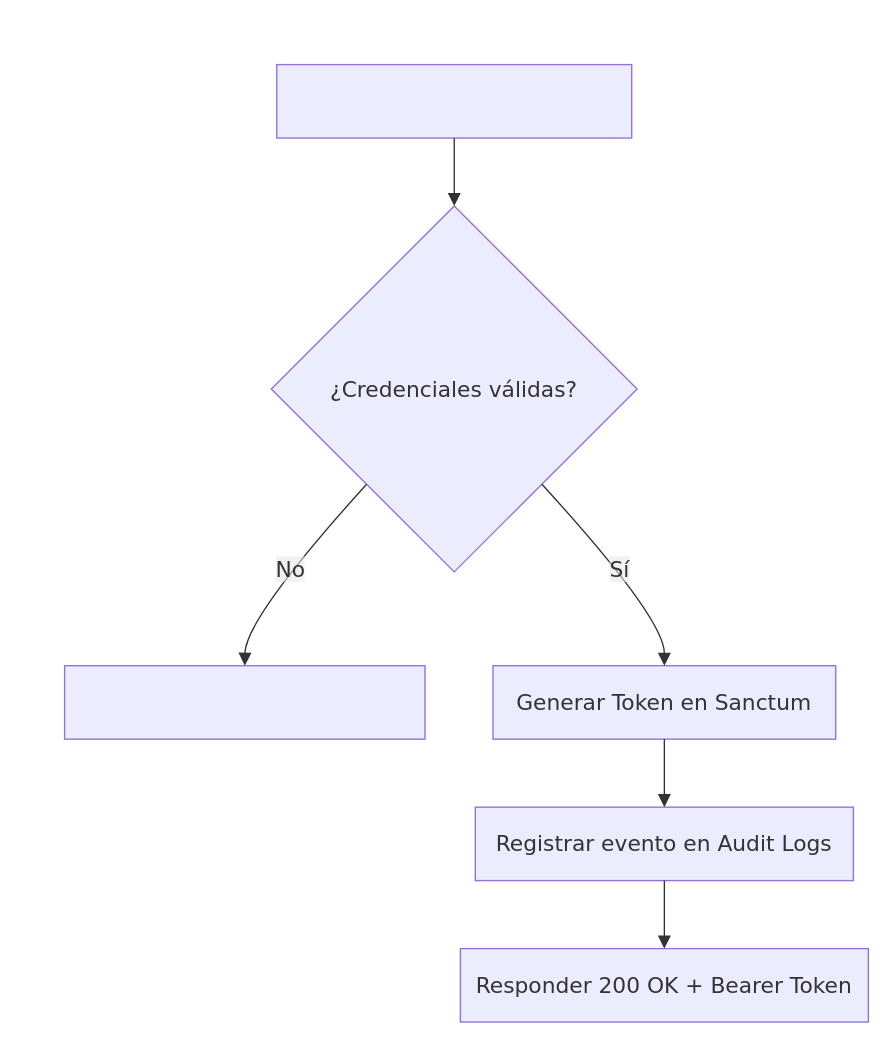
This 892x1046 diagram has some shape labels left out. The box of each missing label's shape, as (x1, y1, x2, y2) in pixels:
Cliente: POST /api/v1/login: (275, 63, 632, 138)
Responder 401 Unauthorized: (63, 664, 425, 739)
